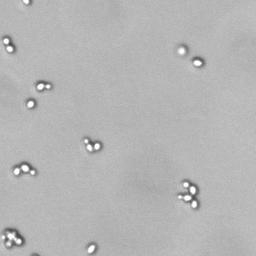budding: (176, 177, 203, 213), (12, 161, 37, 178), (83, 137, 102, 152), (2, 37, 16, 54), (34, 81, 53, 92)
individual: (176, 44, 188, 57), (192, 57, 204, 68), (87, 243, 96, 256), (25, 99, 36, 109)
